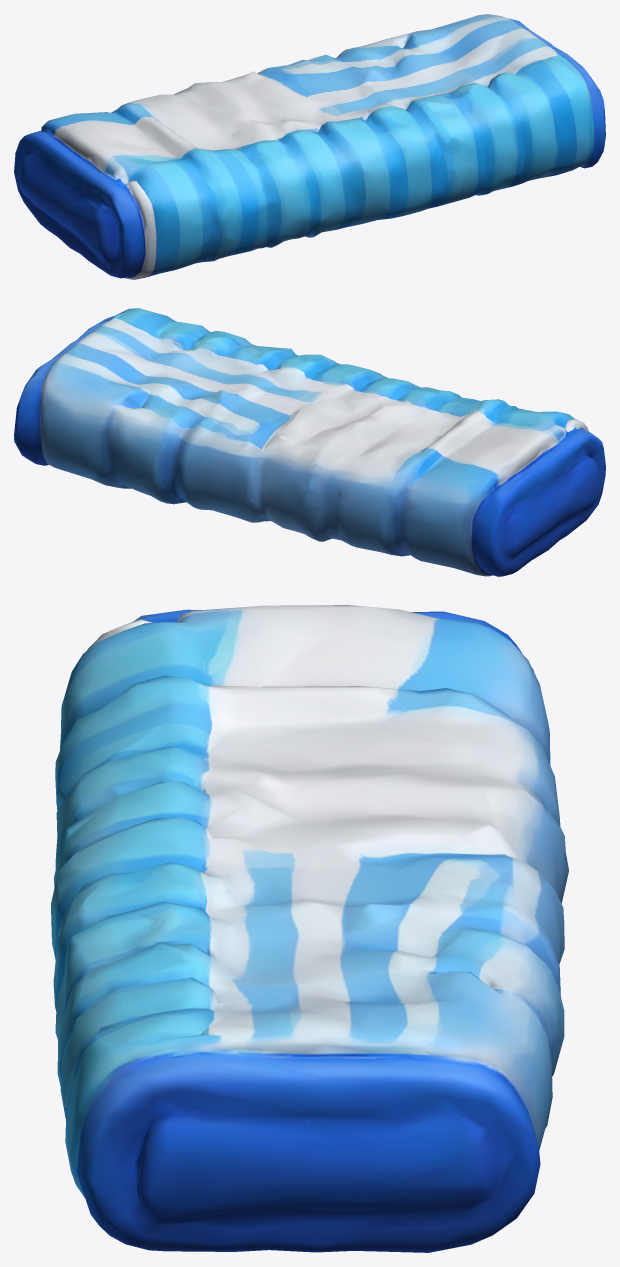
File: prop_futon_fallen_tripo_20261113.glb
The picture shows the model from 3 angles, top to bottom: view 1: azimuth 30°, elevation 25°; view 2: azimuth 150°, elevation 25°; view 3: azimuth 270°, elevation 25°; orthographic projection. The views are drawn at different scales.
Visible parts, largest first — view 1: tripo_node_4a8b2709-8e5e-4e1d-ae08-300cc4a9ef5b; view 2: tripo_node_4a8b2709-8e5e-4e1d-ae08-300cc4a9ef5b; view 3: tripo_node_4a8b2709-8e5e-4e1d-ae08-300cc4a9ef5b.
Part boxes in pixels (box(x1,y1,x2,y2)): tripo_node_4a8b2709-8e5e-4e1d-ae08-300cc4a9ef5b: box(14, 14, 605, 279); tripo_node_4a8b2709-8e5e-4e1d-ae08-300cc4a9ef5b: box(14, 308, 605, 576); tripo_node_4a8b2709-8e5e-4e1d-ae08-300cc4a9ef5b: box(51, 605, 568, 1252).
Size of the model in its own units: 1 by 0.2118 by 0.4477.
Materials: 1 (1 with a texture image).
